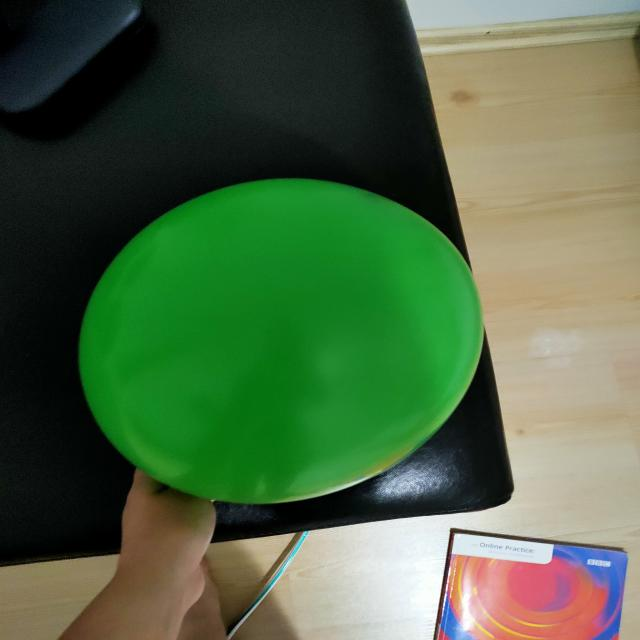green: (78, 180, 486, 505)
